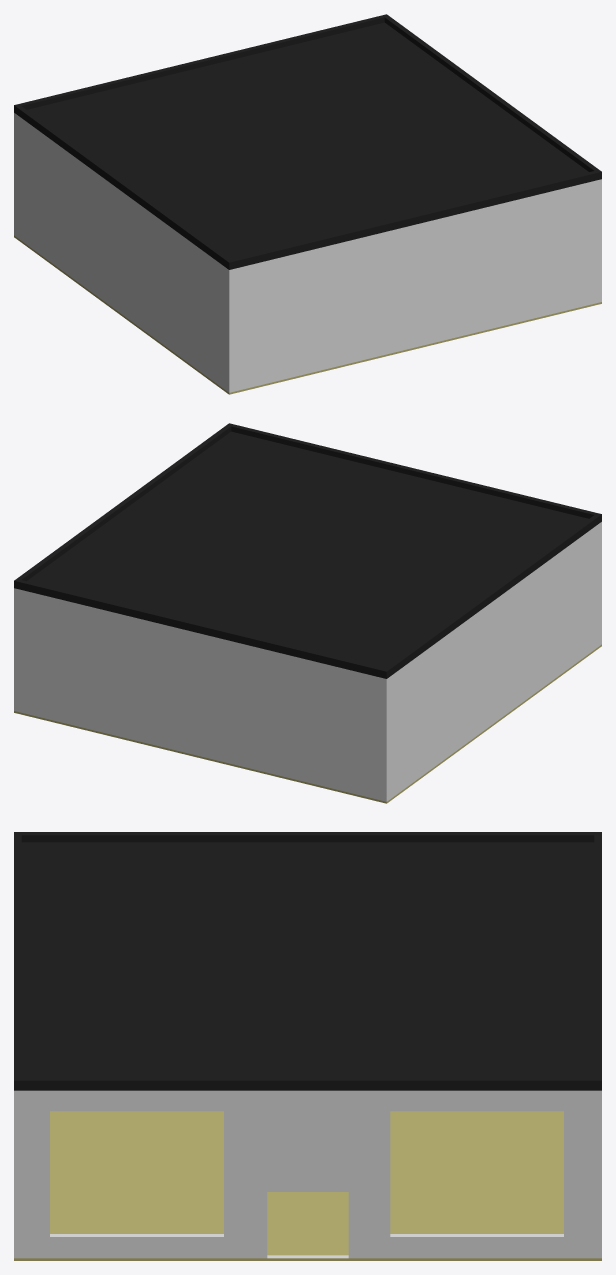
Rendered from mall2.fbx.
3 views of the same model, one above another, from view 1: azimuth 30°, elevation 25°; view 2: azimuth 150°, elevation 25°; view 3: azimuth 270°, elevation 25° (orthographic). The views are drawn at different scales.
Parts seen in each view (by area): view 1: Cube; view 2: Cube; view 3: Cube.
Part boxes in pixels (bbox=[...]): Cube: bbox=[14, 14, 601, 394]; Cube: bbox=[14, 423, 601, 803]; Cube: bbox=[14, 832, 601, 1260].
Size of the model in its own units: 4339 by 1469 by 4339.
